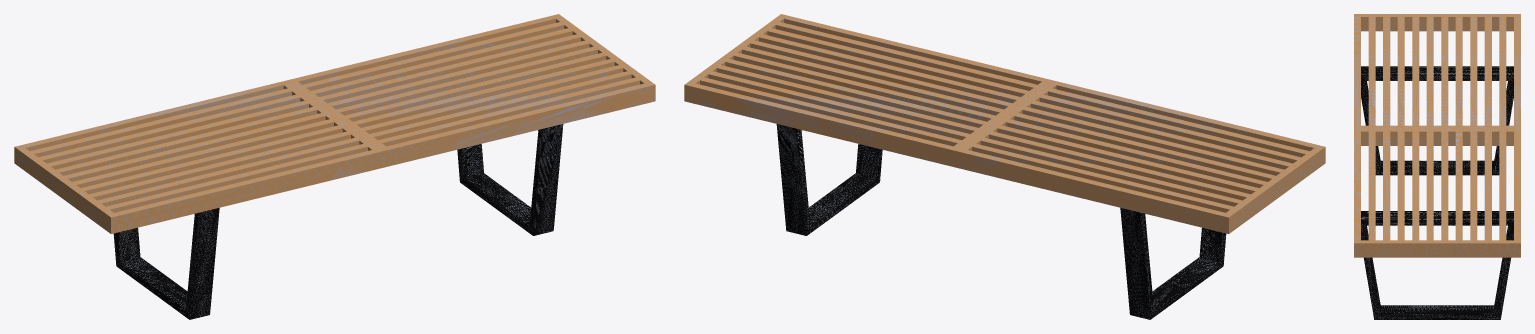
3 views of the same model, side by side, from view 1: azimuth 30°, elevation 25°; view 2: azimuth 150°, elevation 25°; view 3: azimuth 270°, elevation 25° (orthographic). The views are drawn at different scales.
Parts seen in each view (by area): view 1: group_0 (×3); view 2: group_0 (×3); view 3: group_0 (×3).
Boxes of the visible parts, <box> form: group_0 (×3): <box>14,14,655,319</box>; group_0 (×3): <box>684,14,1325,319</box>; group_0 (×3): <box>1354,14,1520,319</box>.
Bounding box in the file's own units: 60 × 18.46 × 14.35.
